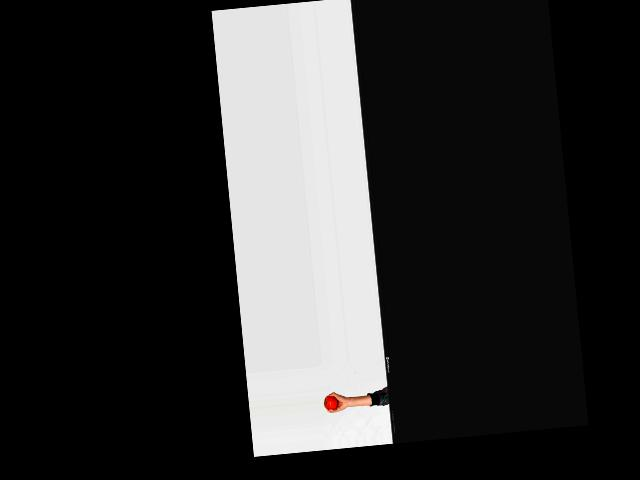tomato: (323, 395, 338, 411)
